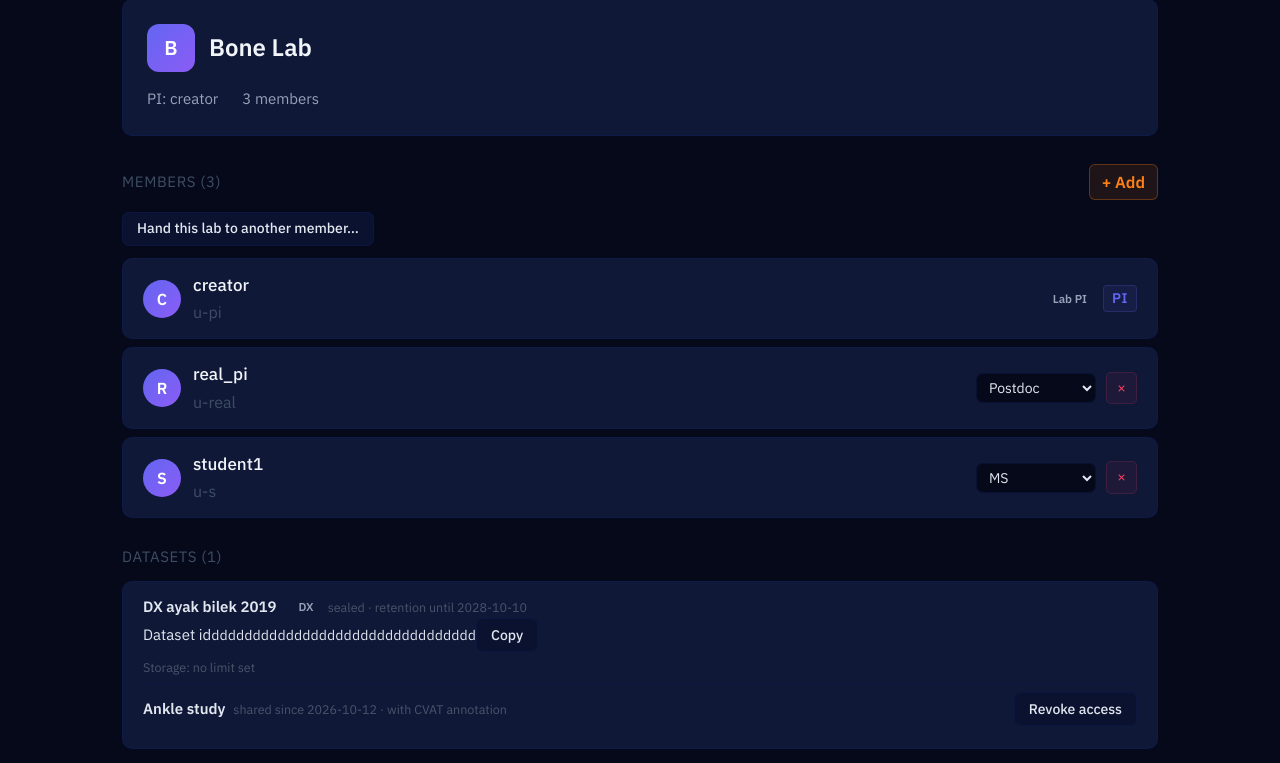
LabDetail — revoking an annotation share › says the images staged into the project and CVAT are not removed
(page scrolled)
Click the button with aria-label "Revoke Ankle study's access to DX ayak bilek 2019" at x=1075, y=709, box [1014,692,1137,726]
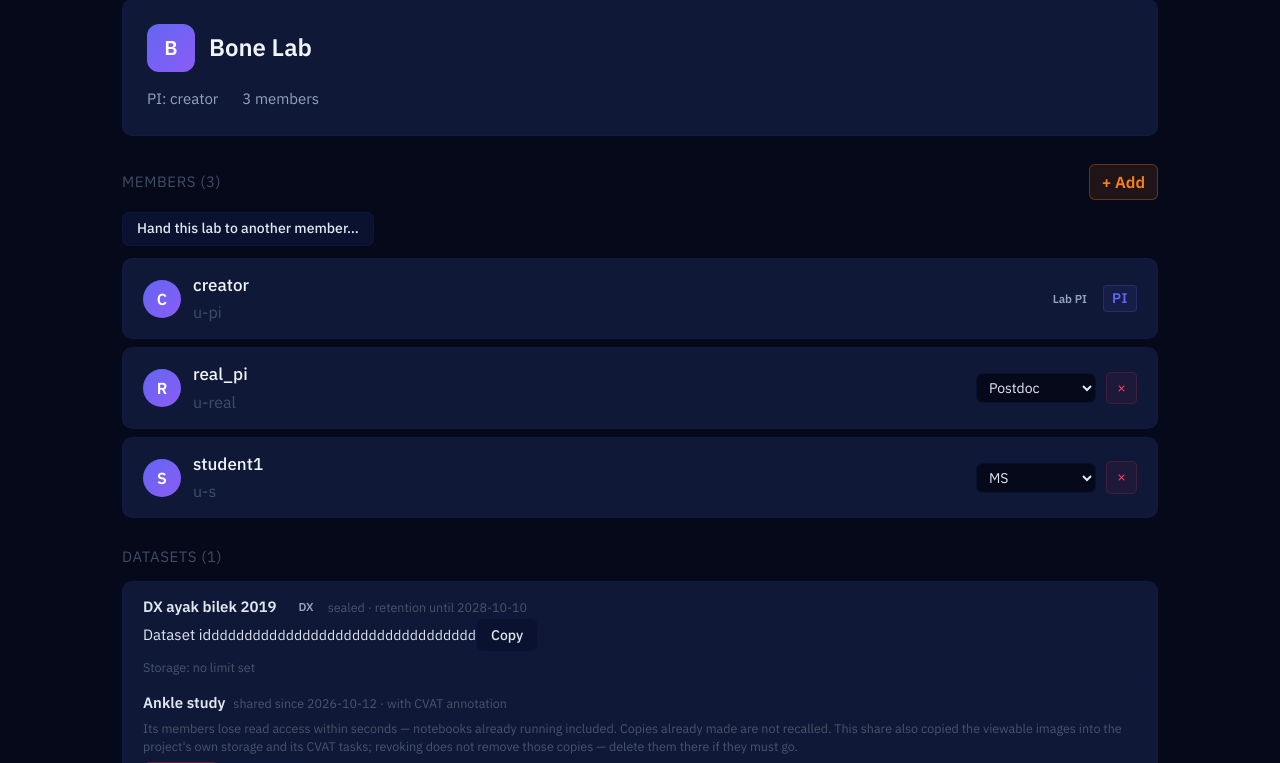
Expected: the text "revoking does not remove those copies" is shown, [143,720,1122,754]
